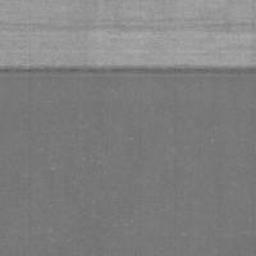Welding line: (0, 64, 256, 76)
